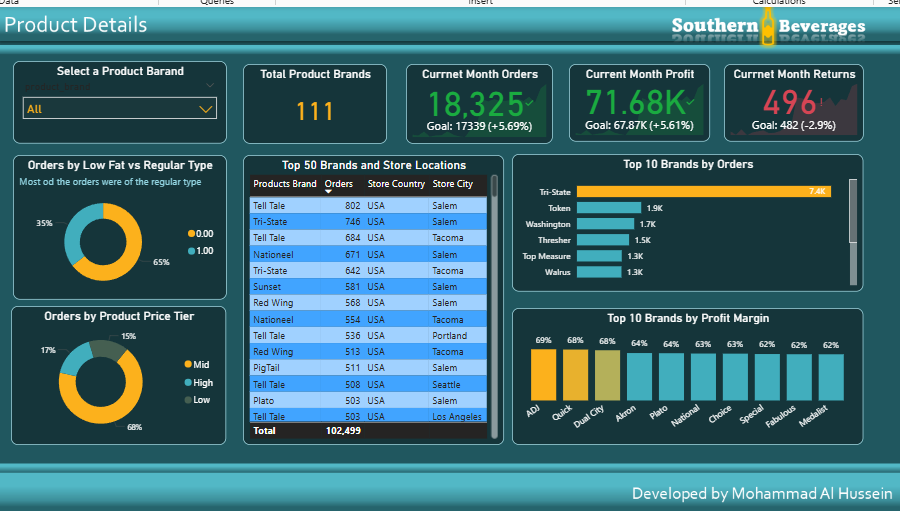

The page's visual inventory and layout, read from the dashboard file:
{"tool":"powerbi","page":{"name":"Product Details","canvas":[1280,720],"ordinal":3},"visuals":[{"type":"barChart","title":"Top 10 Brands by  Orders","fields":{"Category":["Products.product_brand"],"Y":["_Measures.Total Transactions"]},"box":[730.6,208.3,498,195.5],"z":0},{"type":"columnChart","title":"Top 10  Brands by Profit Margin ","fields":{"Category":["Products.product_brand"],"Y":["_Measures.Profit Margin"]},"box":[730.6,426.7,498,194.1],"z":1000},{"type":"donutChart","title":"Orders  by Product  Price Tier","fields":{"Category":["Products.Price_Tier"],"Y":["_Measures.Total Transactions"]},"box":[20,423.8,305.4,196.9],"z":2000},{"type":"kpi","title":"Currnet Month Orders","fields":{"Indicator":["_Measures.Total Transactions"],"TrendLine":["Calendar.Start of Month"],"Goal":["_Measures.Last Month Transactions"]},"box":[579.4,81.3,208.3,112.7],"z":3000},{"type":"kpi","title":"Currnet Month Returns","fields":{"TrendLine":["Calendar.Start of Month"],"Indicator":["_Measures.Total Returns"],"Goal":["_Measures.Last Month Returns"]},"box":[1030.3,81.3,198.4,109.9],"z":4000},{"type":"kpi","title":"Current Month Profit","fields":{"TrendLine":["Calendar.Start of Month"],"Indicator":["_Measures.Total Profit"],"Goal":["_Measures.Last Month Profit"]},"box":[810.5,81.3,199.8,109.9],"z":5000},{"type":"donutChart","title":"Orders  by Low Fat vs Regular Type","fields":{"Y":["_Measures.Total Transactions"],"Category":["Products.low_fat"]},"box":[22.8,209.8,302.5,205.5],"z":6000},{"type":"slicer","title":"Select a Product Barand","fields":{"Values":["Products.product_brand"]},"box":[22.8,77.1,302.5,117],"z":7000},{"type":"tableEx","title":"Top 50 Brands and Store Locations","fields":{"Values":["Products.product_brand","_Measures.Total Transactions","Stores.store_country","Stores.store_city"]},"box":[348.2,209.8,369.6,411],"z":8000},{"type":"card","title":"Total Product Brands","fields":{"Values":["Count(Products.product_brand)"]},"box":[348.2,81.3,204.1,112.7],"z":9000}]}

Visuals, with their boxes on the page's 1280x720 design canvas (x1, y1, x2, y2). These are canvas units, not pixel positions in the 900x511 screenshot, which may show the page scaled, cropped or inside an application window:
"Top 10 Brands by  Orders" barChart: bbox=[731, 208, 1229, 404]
"Top 10  Brands by Profit Margin " columnChart: bbox=[731, 427, 1229, 621]
"Orders  by Product  Price Tier" donutChart: bbox=[20, 424, 325, 621]
"Currnet Month Orders" kpi: bbox=[579, 81, 788, 194]
"Currnet Month Returns" kpi: bbox=[1030, 81, 1229, 191]
"Current Month Profit" kpi: bbox=[810, 81, 1010, 191]
"Orders  by Low Fat vs Regular Type" donutChart: bbox=[23, 210, 325, 415]
"Select a Product Barand" slicer: bbox=[23, 77, 325, 194]
"Top 50 Brands and Store Locations" tableEx: bbox=[348, 210, 718, 621]
"Total Product Brands" card: bbox=[348, 81, 552, 194]
